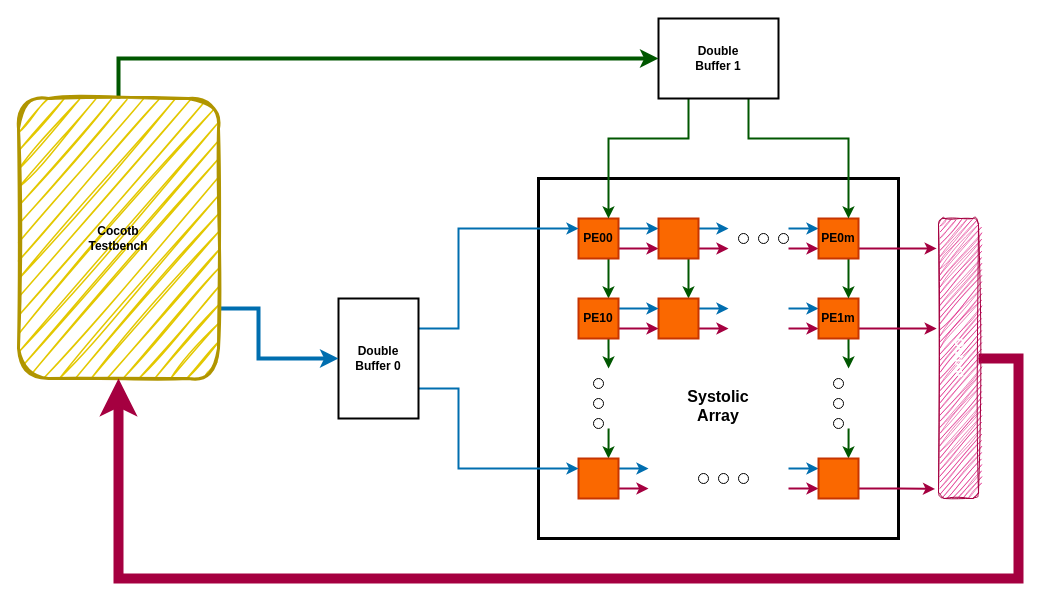
This 1049x608 diagram has some shape labels left out. The box of each missing label's shape, as (x1, y1, x2, y2) in pixels:
PE01: (657, 217, 699, 259)
PE0n: (577, 457, 619, 499)
PE11: (657, 297, 699, 339)
PEnm: (817, 457, 859, 499)
